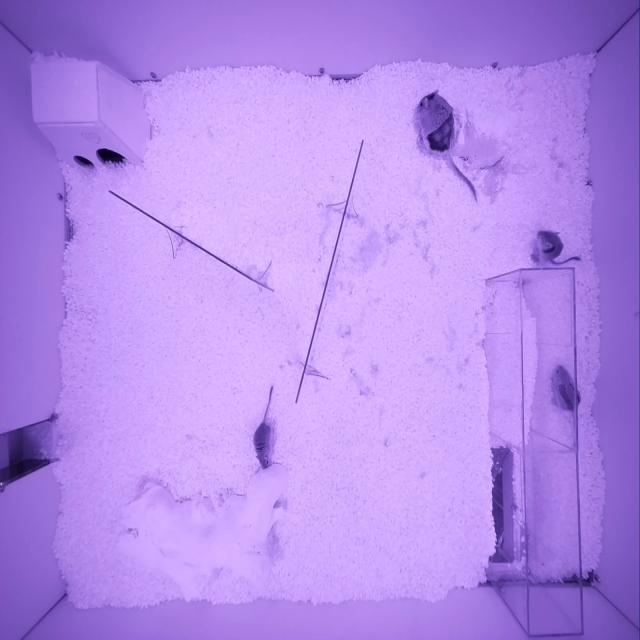adult_back: (417, 88, 455, 155)
pup_fluffy: (254, 424, 273, 469)
pup_spotted: (530, 230, 564, 265)
pup_v_stripe: (552, 364, 581, 411)
